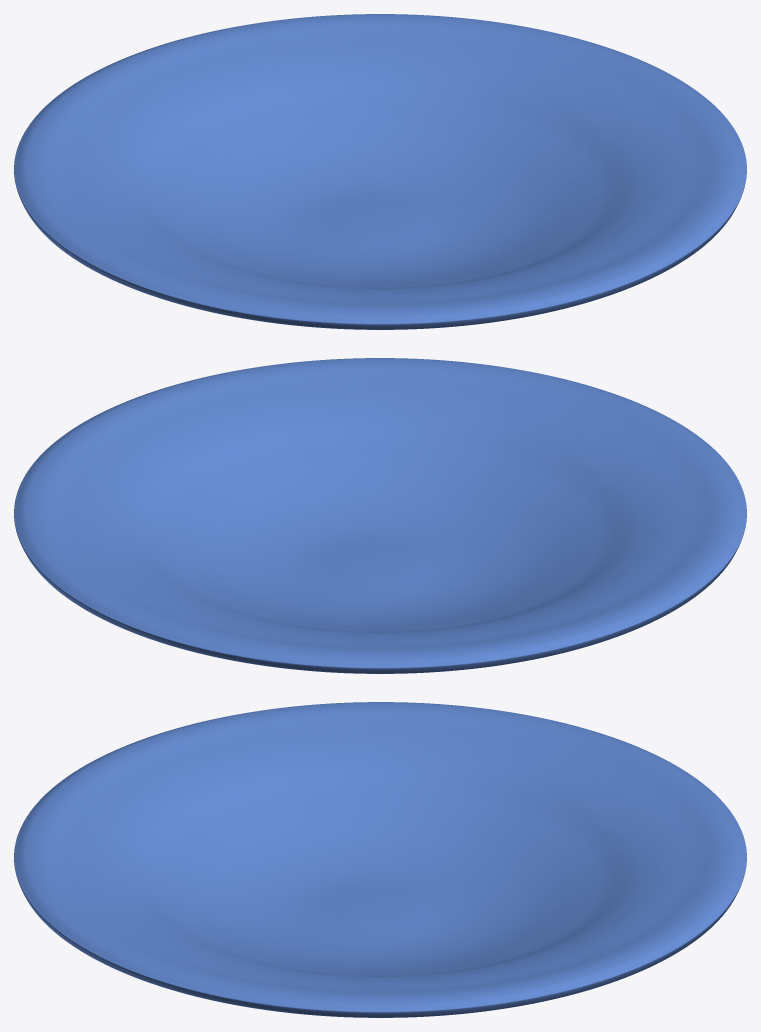
3 renders of one model, top to bottom at view 1: azimuth 30°, elevation 25°; view 2: azimuth 150°, elevation 25°; view 3: azimuth 270°, elevation 25°, orthographic.
Bounding box in the file's own units: 0.3205 × 0.0323 × 0.3205.
